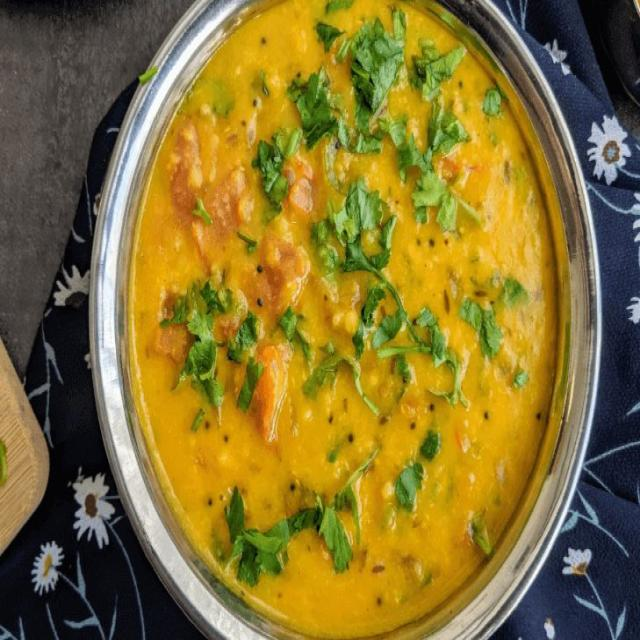dal: (192, 49, 530, 608)
